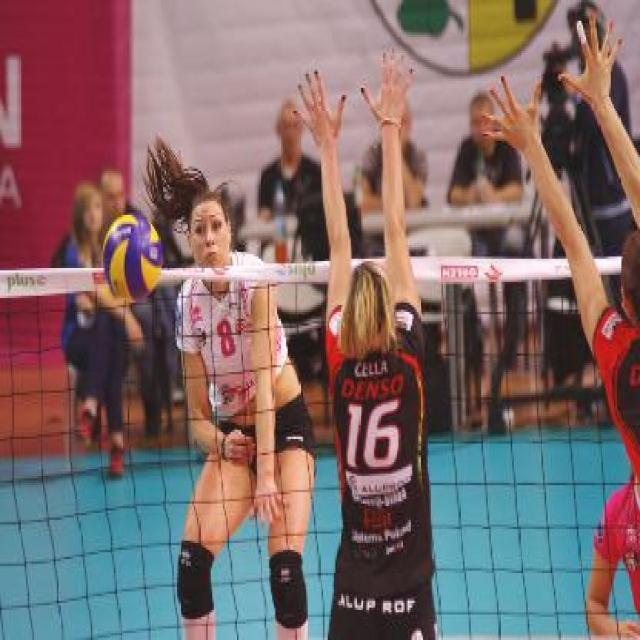volleyball: (102, 212, 164, 301)
